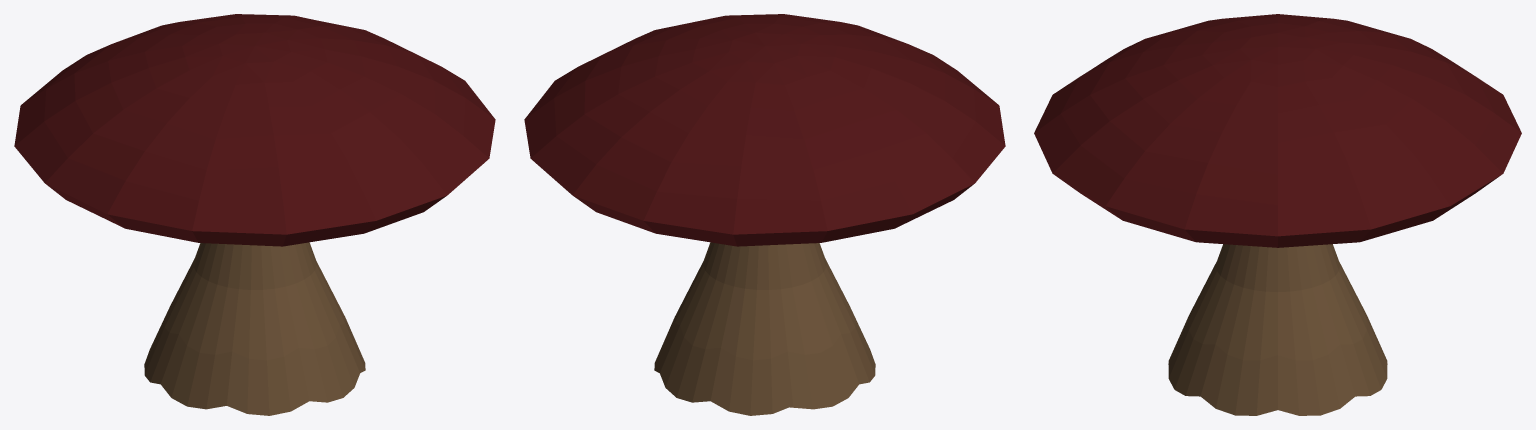
Rendered from Mushroom.fbx.
The picture shows the model from 3 angles, left to right: view 1: azimuth 30°, elevation 25°; view 2: azimuth 150°, elevation 25°; view 3: azimuth 270°, elevation 25°; orthographic projection.
Parts seen in each view (by area): view 1: Mushroom_00; view 2: Mushroom_00; view 3: Mushroom_00.
Boxes of the visible parts, x1,y1,x2,y2 form: Mushroom_00: [14, 14, 495, 415]; Mushroom_00: [524, 14, 1005, 415]; Mushroom_00: [1034, 14, 1521, 415].
Size of the model in its own units: 227 by 167 by 227.
